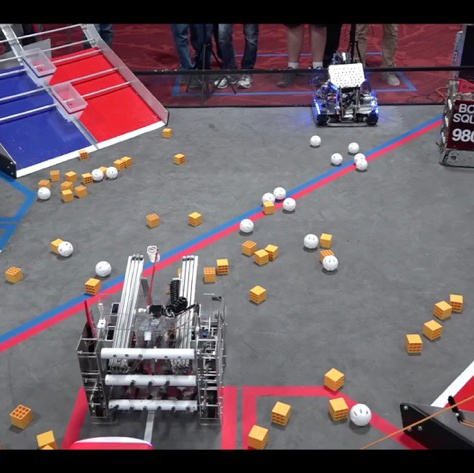robot: (75, 251, 233, 430), (305, 54, 384, 129), (436, 74, 474, 174)
